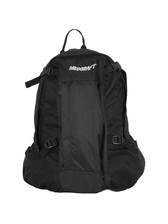bag: (12, 27, 149, 196)
